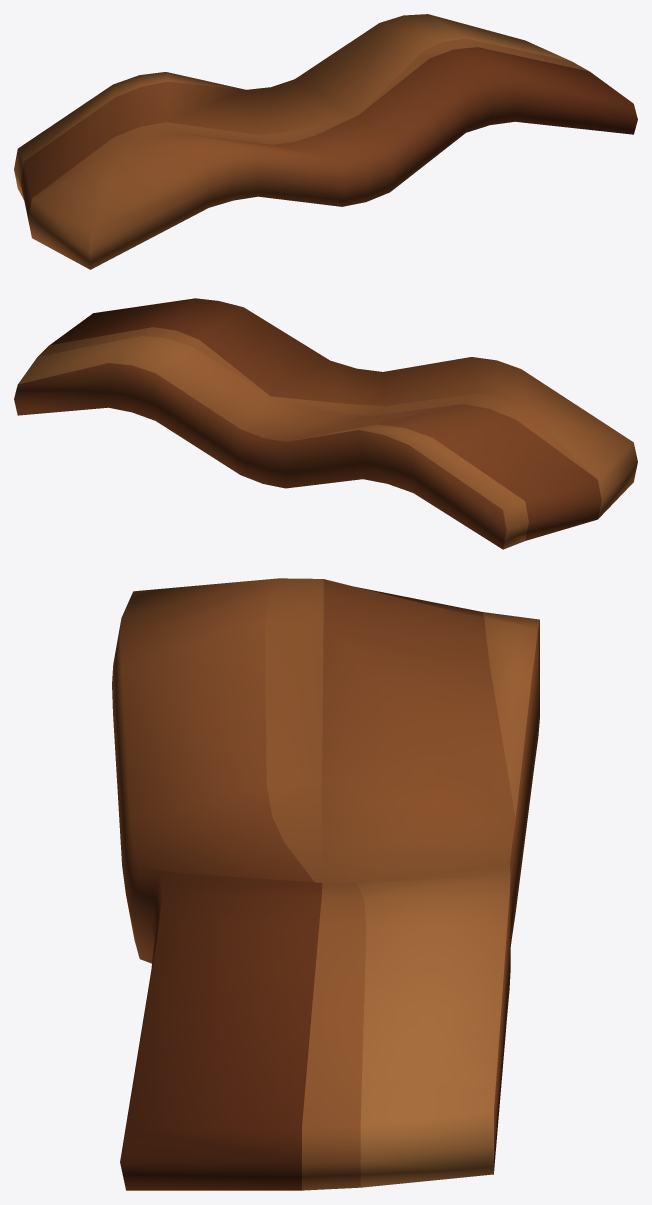
File: Bacon_Slice_02.glb
3 views of the same model, one above another, from view 1: azimuth 30°, elevation 25°; view 2: azimuth 150°, elevation 25°; view 3: azimuth 270°, elevation 25° (orthographic). The views are drawn at different scales.
Parts seen in each view (by area): view 1: Bacon_Slice_02; view 2: Bacon_Slice_02; view 3: Bacon_Slice_02.
Part boxes in pixels (x1,y1,x2,y2): Bacon_Slice_02: (14, 14, 637, 269); Bacon_Slice_02: (14, 298, 637, 549); Bacon_Slice_02: (112, 578, 539, 1190).
Bounding box in the file's own units: 0.5399 × 0.0835 × 0.1786.
Materials: 1 (1 with a texture image).
